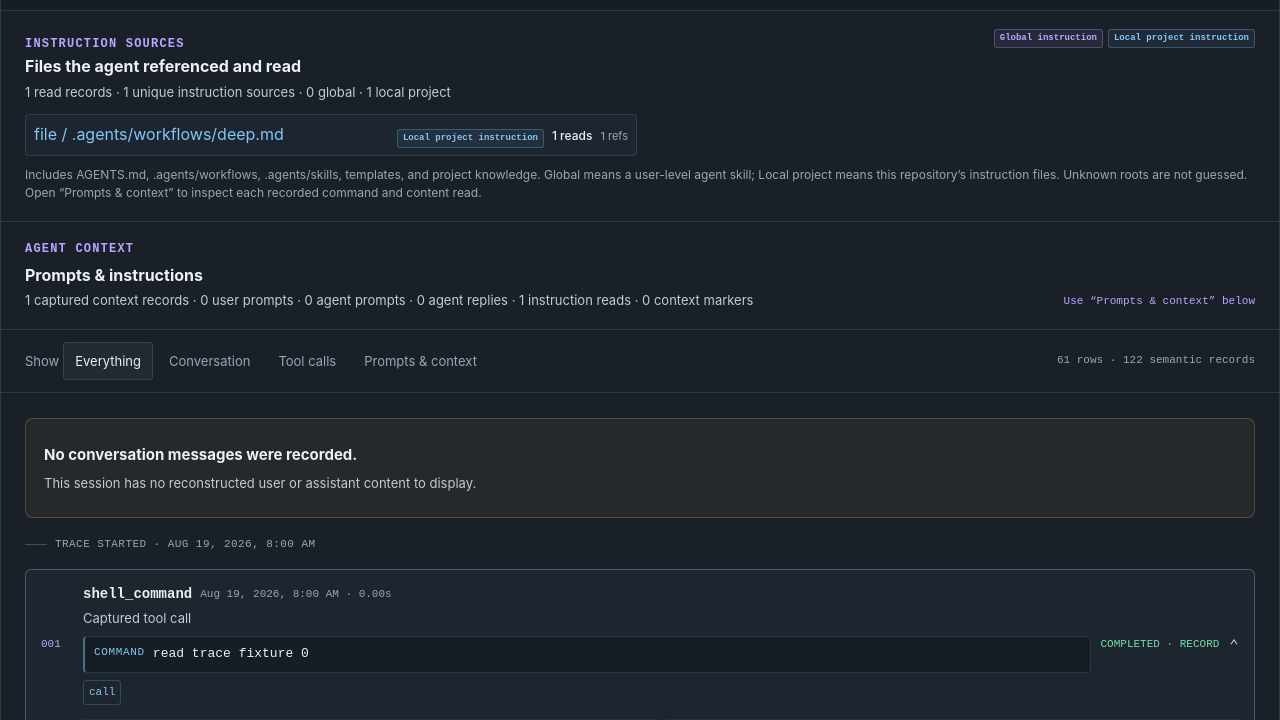
Test case: TraceView API conversation › keeps all received rows available when the filter and selected session change
(page scrolled)
Click the button "Conversation" at point(210, 361), box [157,342,262,380]
(page scrolled)
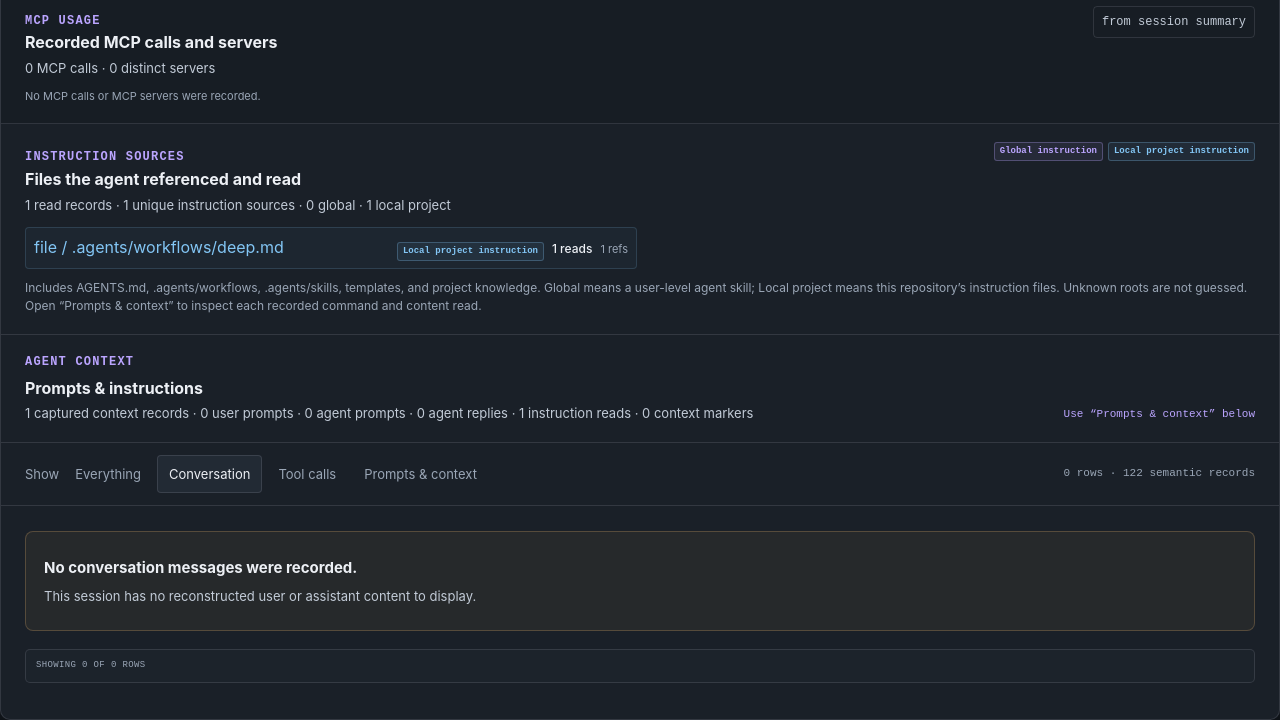
expect the text "Showing 0 of 0 rows" is shown: met, box [36,660,146,670]
Click the button "Everything" at point(108, 474), box [63,454,153,493]
(page scrolled)
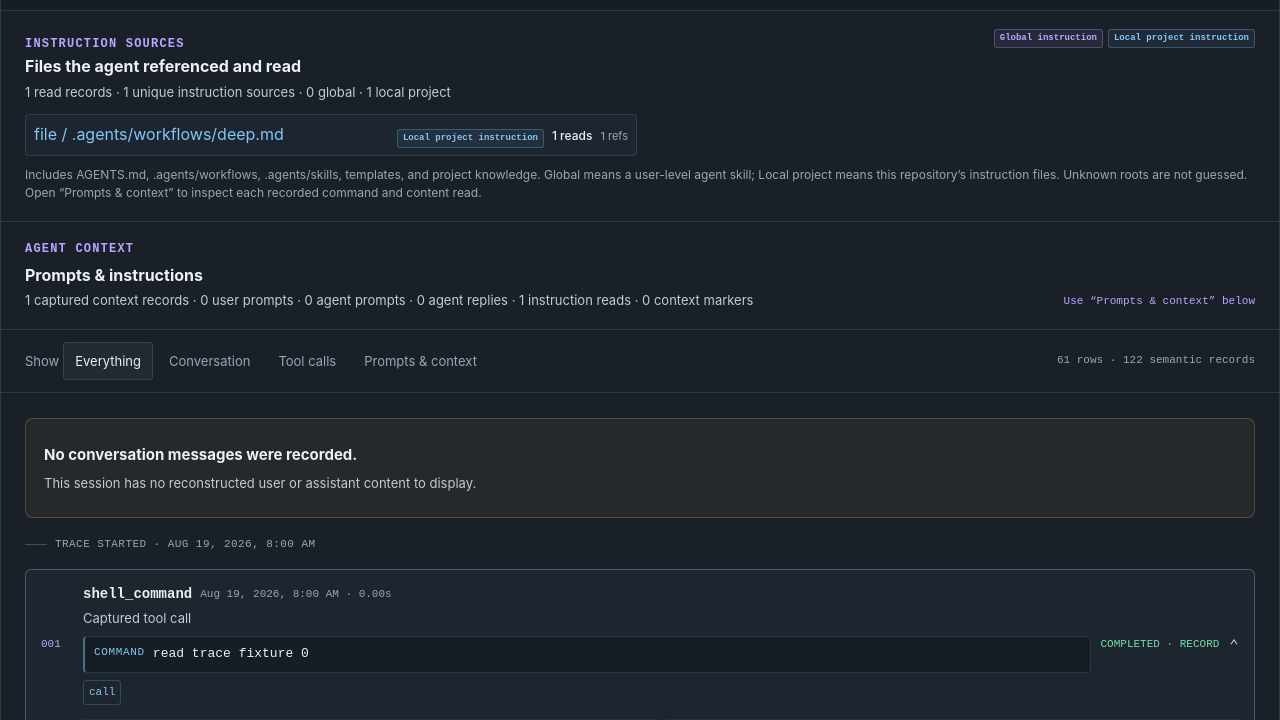
expect the number of elements with class "tool-card" is 61: met
